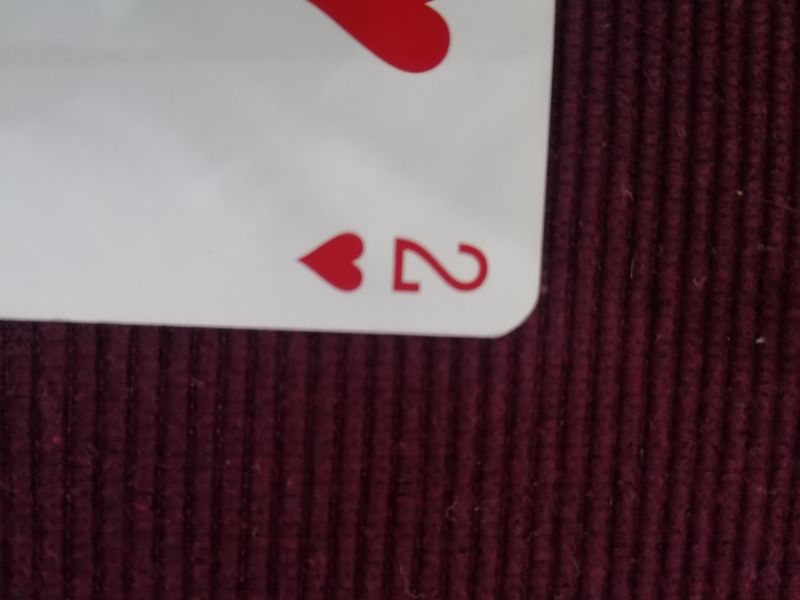2h: (294, 228, 495, 297)
